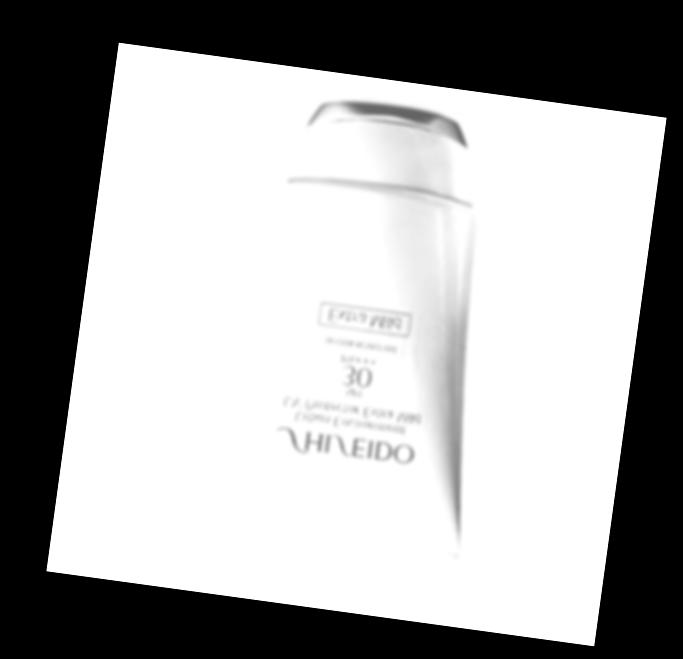cosmetic: (206, 83, 521, 565)
